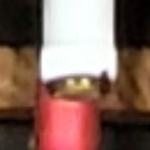bottle: (27, 35, 137, 124)
